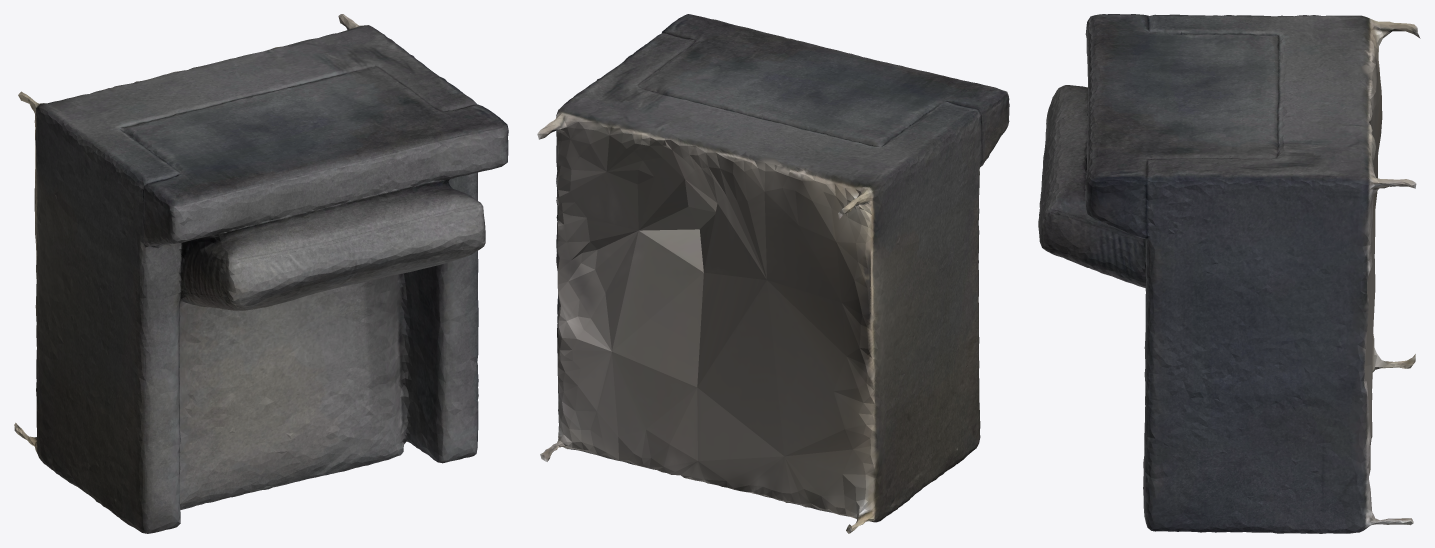
The model's file is arm_chair.obj.
3 views of the same model, side by side, from view 1: azimuth 30°, elevation 25°; view 2: azimuth 150°, elevation 25°; view 3: azimuth 270°, elevation 25° (orthographic). The views are drawn at different scales.
Bounding box in the file's own units: 0.8818 × 0.934 × 0.8534.
1 material, 1 textured.
